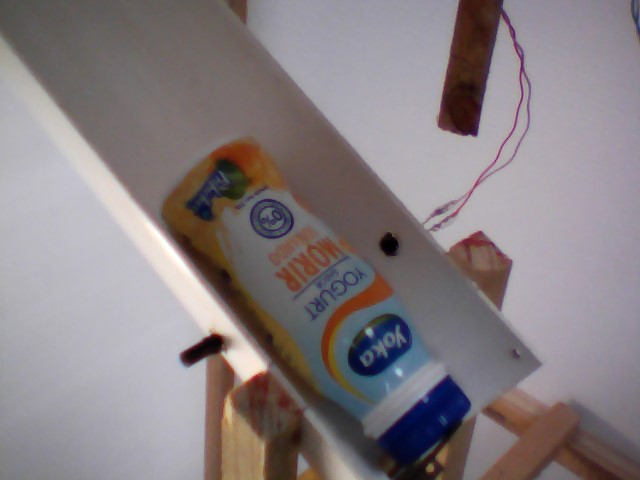plastico: (142, 123, 479, 469)
